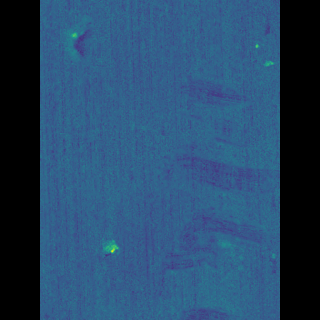Loch: (153, 65, 244, 320)
